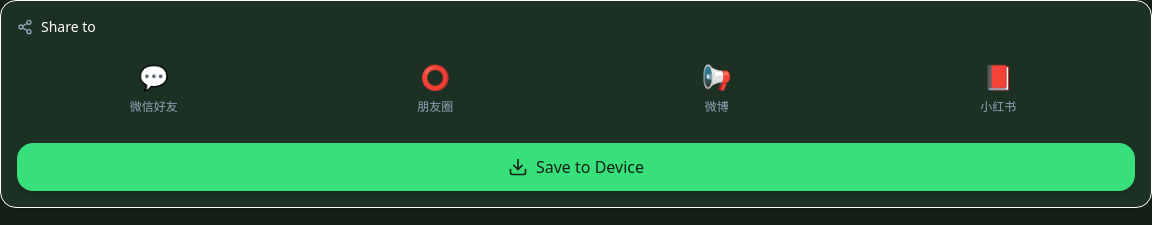
ExportPanel › shows loading state on share button during share
Click the button with aria-label "share to 微信好友".
click(154, 88)  # box [17,49,290,127]
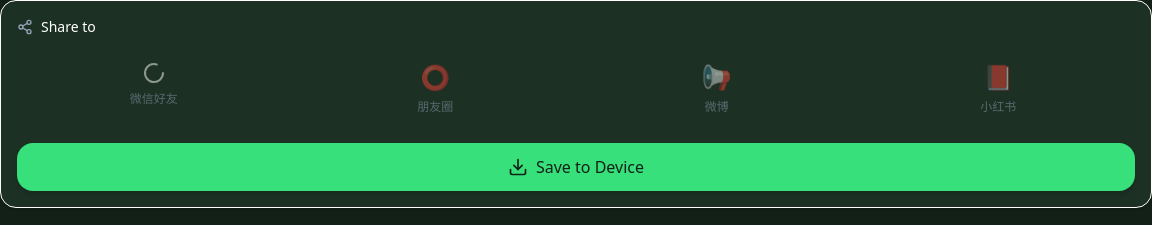
expect the button with aria-label "share to 微信好友" is disabled: met, box [17,49,290,127]
